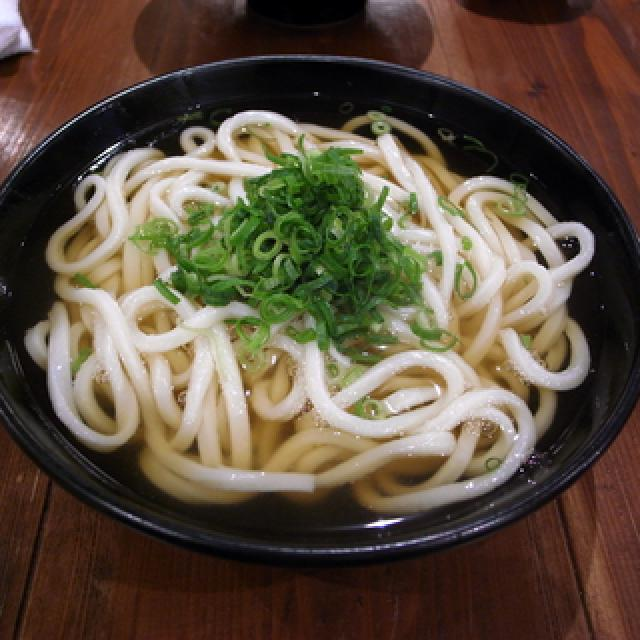面条主食: (0, 64, 640, 556)
